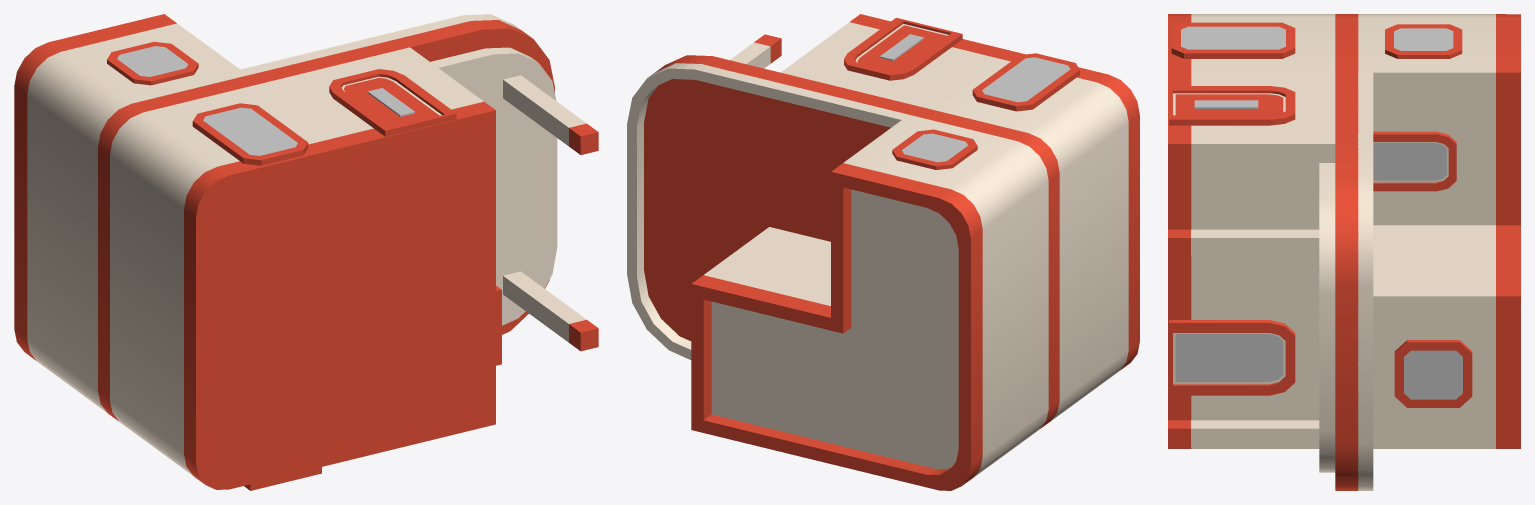
Rendered from House02.fbx.
The picture shows the model from 3 angles, left to right: view 1: azimuth 30°, elevation 25°; view 2: azimuth 150°, elevation 25°; view 3: azimuth 270°, elevation 25°; orthographic projection. The views are drawn at different scales.
Visible parts, largest first — view 1: dh019; view 2: dh019; view 3: dh019.
Part boxes in pixels (x1,y1,x2,y2): dh019: (14,14,598,490); dh019: (627,14,1139,490); dh019: (1168,14,1520,490).
Bounding box in the file's own units: 888 × 623 × 627.
